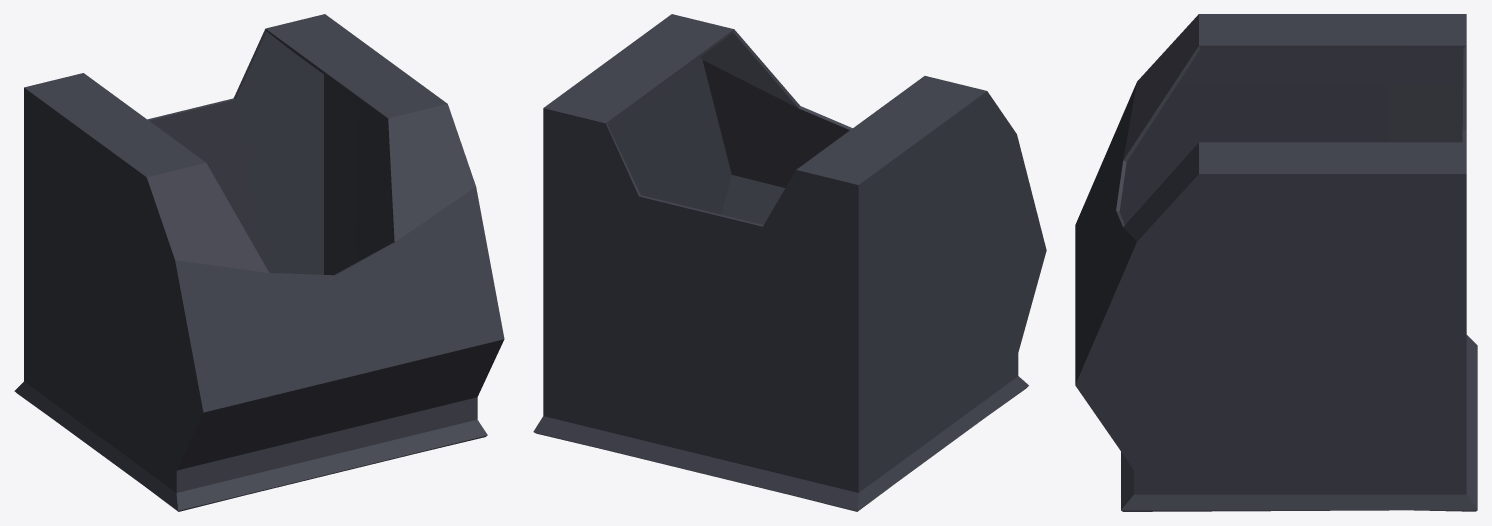
Rendered from bra.fbx.
The picture shows the model from 3 angles, left to right: view 1: azimuth 30°, elevation 25°; view 2: azimuth 150°, elevation 25°; view 3: azimuth 270°, elevation 25°; orthographic projection. The views are drawn at different scales.
Parts seen in each view (by area): view 1: Bra.001; view 2: Bra.001; view 3: Bra.001.
Part boxes in pixels (x1,y1,x2,y2): Bra.001: (14, 14, 504, 511); Bra.001: (533, 14, 1046, 511); Bra.001: (1075, 14, 1477, 511).
Bounding box in the file's own units: 20.49 × 19.49 × 21.14.
Materials: 1 (1 with a texture image).
